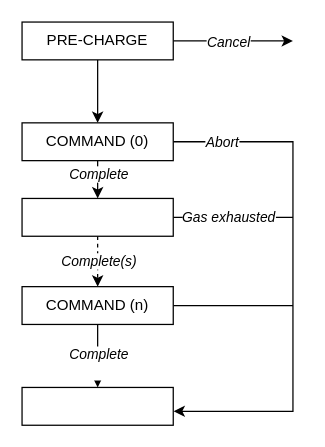
This 325x447 diagram has some shape labels left out. Here are the shapes that lost their labels. From the top down, the box of each, then its label:
(21, 197, 173, 236): COMMAND (1)
(21, 386, 173, 425): CHARGE
